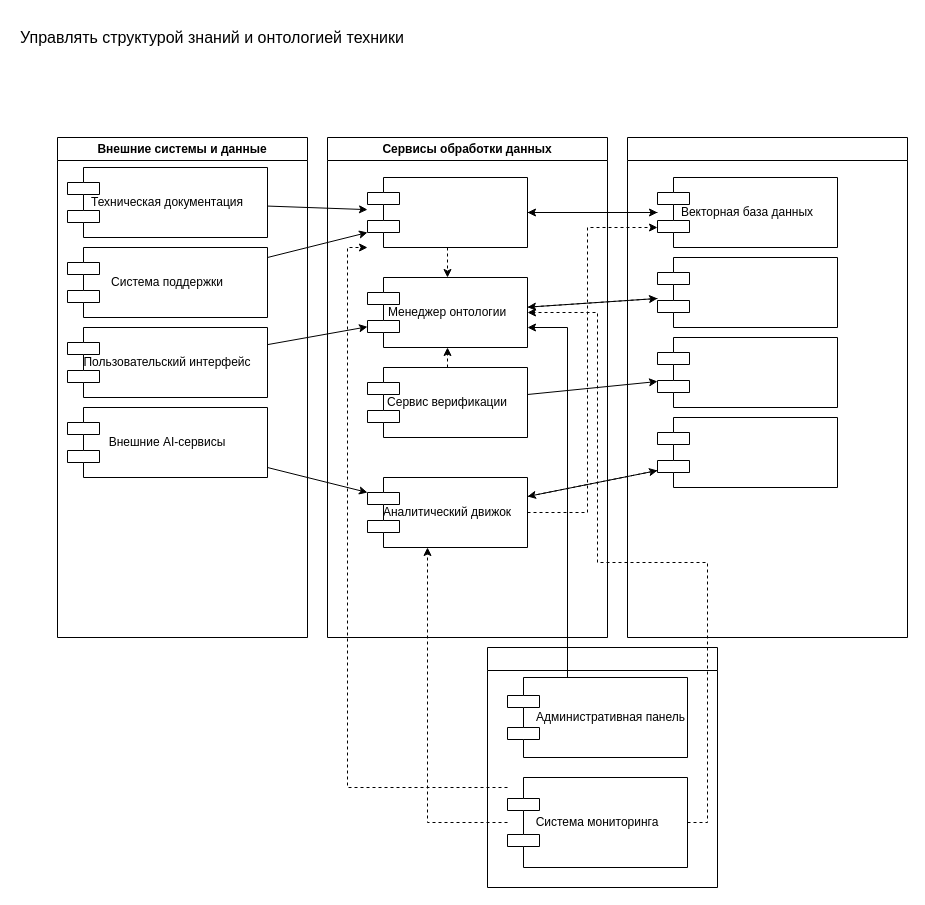
This 925x905 diagram has some shape labels left out. The shapes that lost their labels are listed below. From the top down, each one's box as (x1, y1, x2, y2) in pixels, then its label:
(366, 176, 528, 248): NLP-обработчик
(656, 256, 838, 328): Графовая база знаний
(656, 336, 838, 408): Хранилище документов
(626, 136, 908, 638): Хранилища данных
(656, 416, 838, 488): База метрик
(486, 646, 718, 888): Управление и мониторинг
